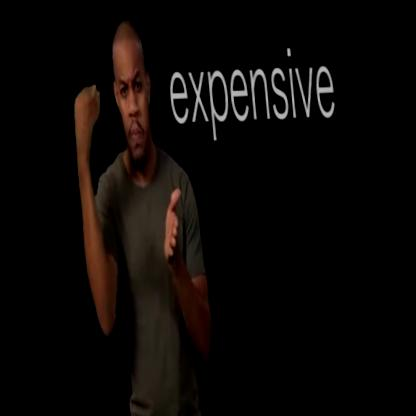Expensive: (70, 62, 189, 317)
